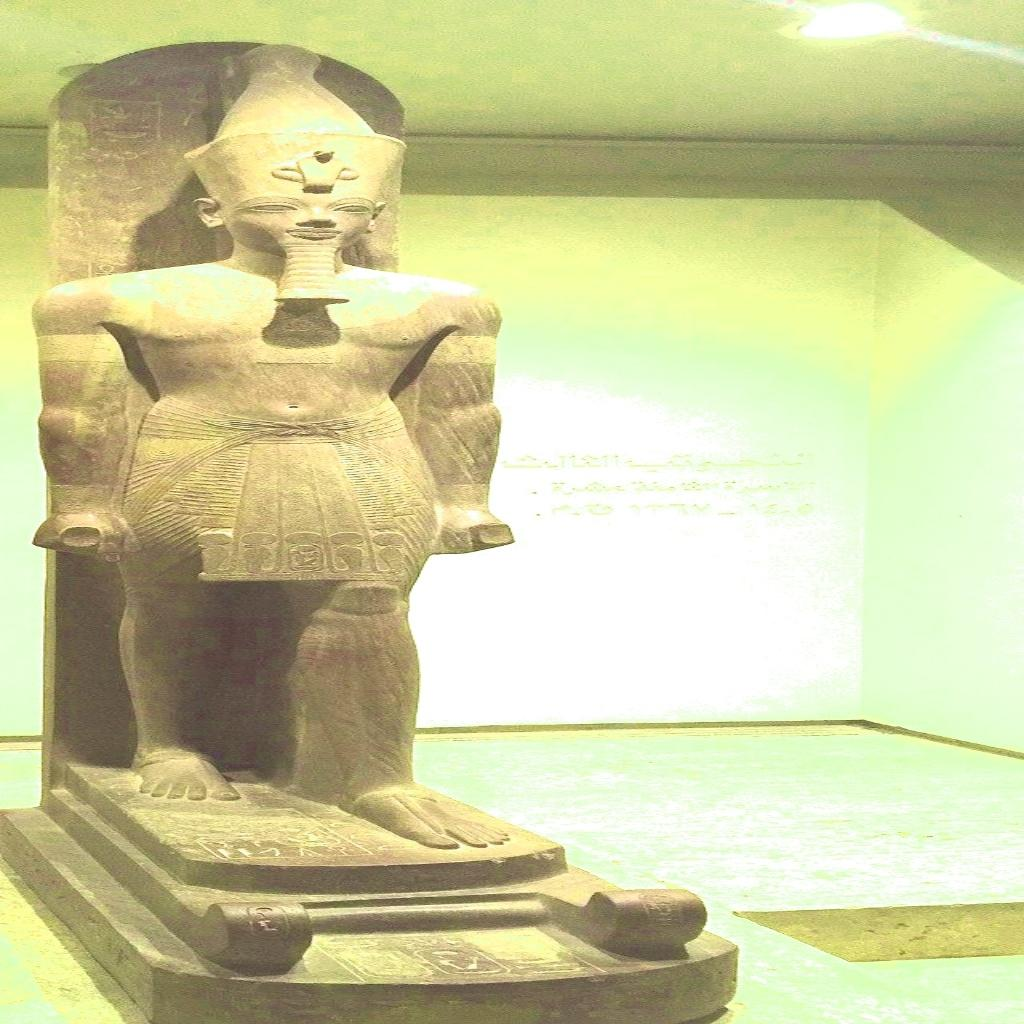Amenhotep III: (28, 40, 538, 854)
